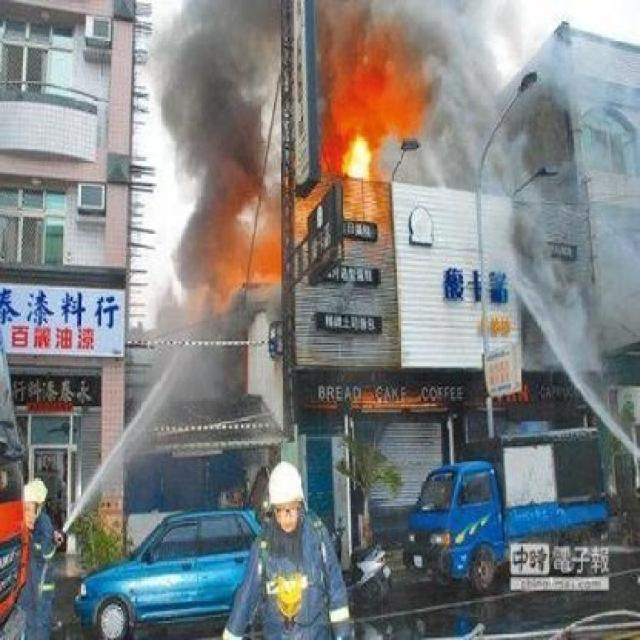Fire: (343, 135, 374, 178)
Smoke: (160, 2, 292, 294), (322, 0, 486, 138)
